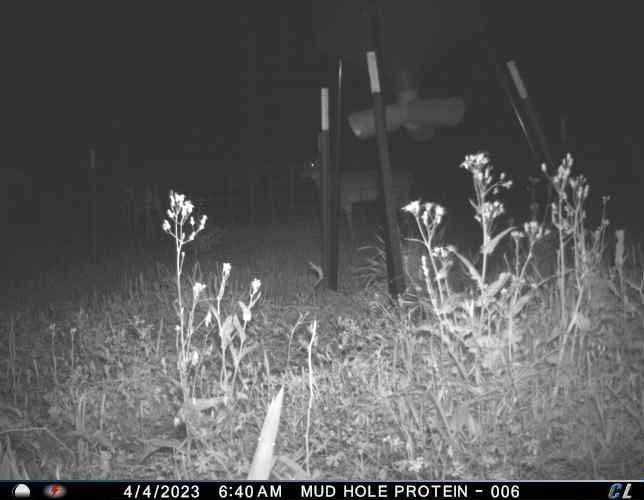Deer: (302, 155, 417, 246)
